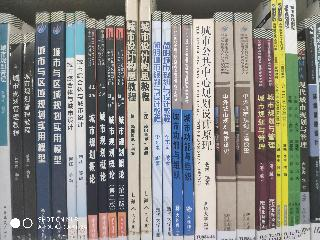book-spine: (194, 19, 215, 240), (215, 12, 235, 240), (235, 13, 254, 239), (49, 12, 66, 238), (35, 13, 51, 239), (304, 18, 320, 240), (126, 1, 139, 239), (85, 19, 99, 239), (75, 12, 87, 238), (23, 33, 36, 239), (271, 1, 282, 240), (140, 2, 151, 239), (297, 42, 310, 239), (254, 30, 266, 239), (0, 14, 11, 239), (182, 16, 193, 239), (11, 35, 23, 239), (97, 21, 108, 239), (284, 1, 294, 239), (290, 1, 300, 239), (265, 31, 276, 239), (152, 11, 162, 239), (66, 13, 76, 239), (162, 13, 172, 239), (172, 15, 182, 239), (107, 17, 117, 240), (116, 17, 126, 239), (278, 1, 287, 239)
